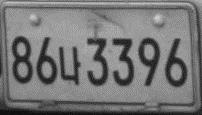3: (112, 37, 136, 86), (86, 37, 108, 85)
6: (164, 36, 188, 87), (35, 36, 57, 84)
8: (10, 35, 33, 84)
9: (138, 36, 160, 86)
나: (58, 45, 82, 84)
